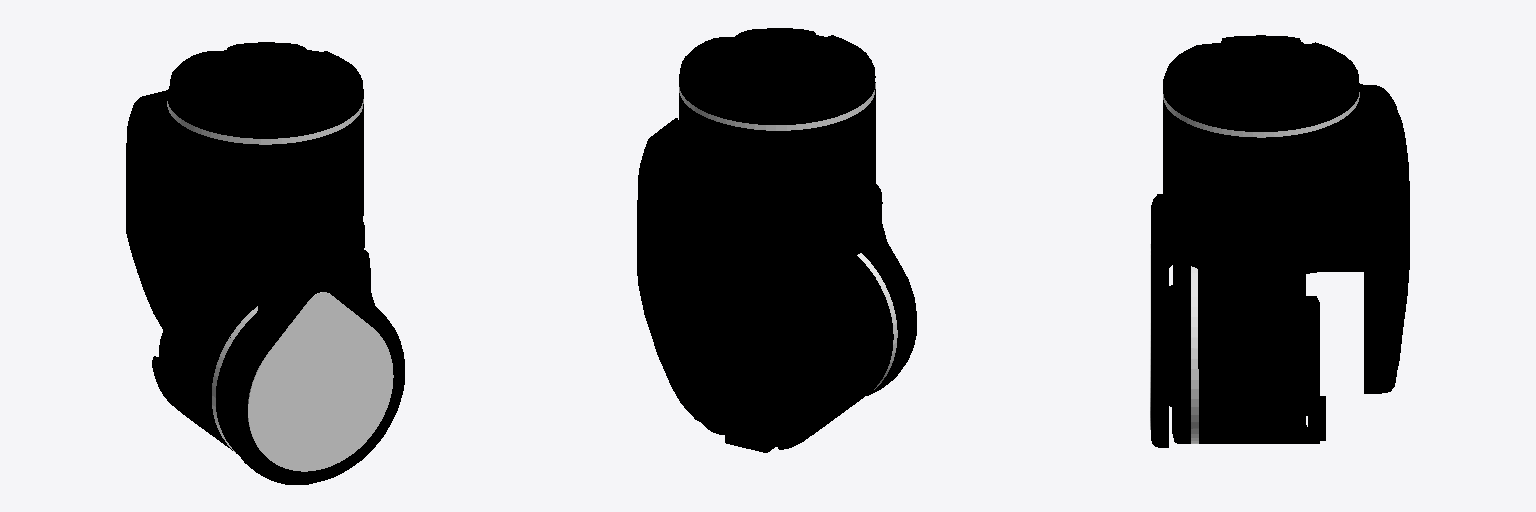
The picture shows the model from 3 angles: view 1: azimuth 30°, elevation 25°; view 2: azimuth 150°, elevation 25°; view 3: azimuth 270°, elevation 25°; orthographic projection.
Parts seen in each view (by area): view 1: link5_0, link5_1; view 2: link5_0; view 3: link5_0.
Boxes of the visible parts, box(x1,y1,x2,y2) form: link5_0: box(126, 42, 404, 484); link5_1: box(248, 292, 393, 471); link5_0: box(637, 28, 916, 452); link5_0: box(1151, 35, 1409, 447).
Bounding box in the file's own units: 0.058 × 0.1144 × 0.0739.